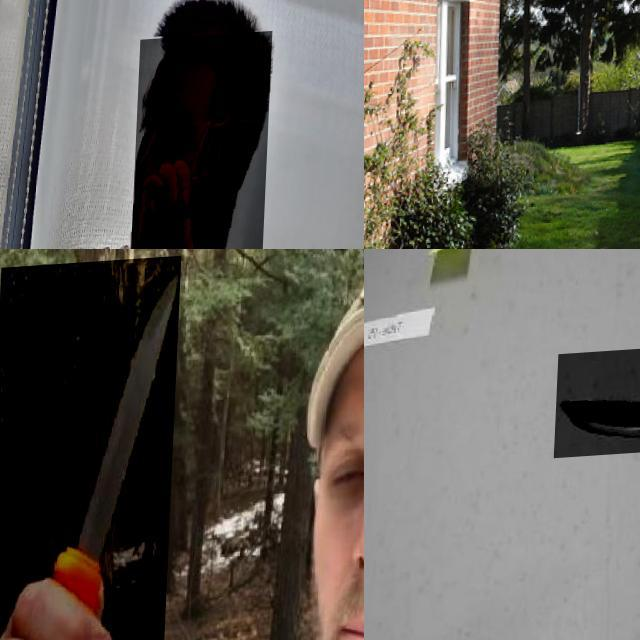-: (0, 258, 181, 640), (556, 348, 640, 462)
gun-knife-thesis - v11 Yolov5 augmented: (132, 38, 273, 249)
